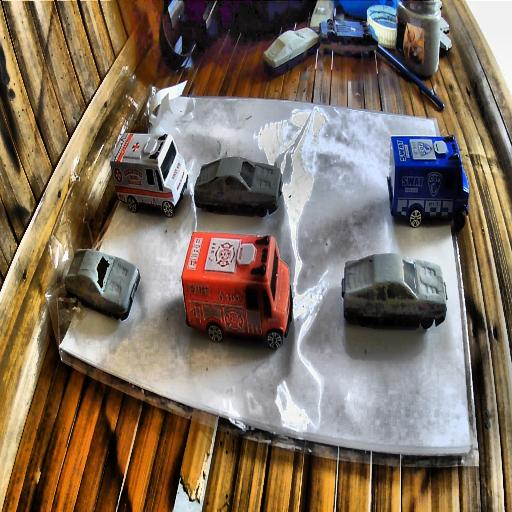ambulance: (110, 130, 190, 219)
fire_truck: (180, 230, 290, 350)
normal_car: (340, 252, 448, 331), (64, 249, 140, 323), (192, 156, 280, 219), (264, 28, 316, 74)
police car: (386, 134, 470, 233)
